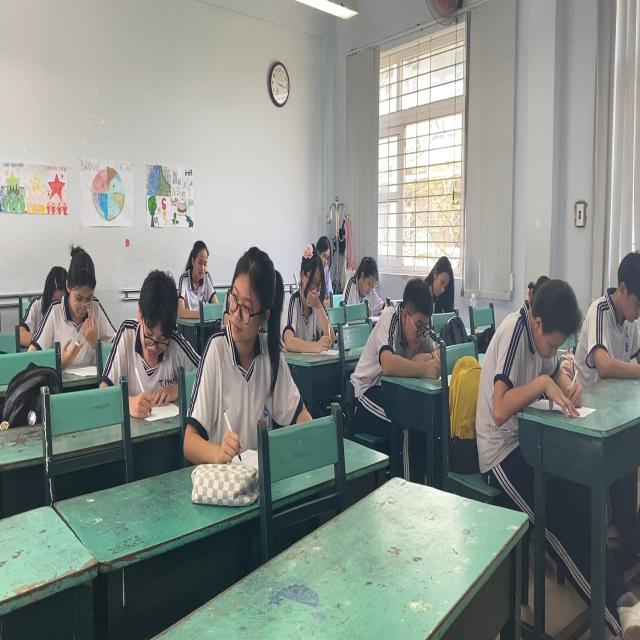cheating: (207, 245, 294, 438)
not_cheating: (487, 270, 588, 428), (114, 266, 188, 424), (32, 238, 113, 362), (366, 270, 442, 362), (286, 238, 335, 356), (173, 231, 224, 317), (335, 248, 379, 307), (426, 249, 457, 317)
